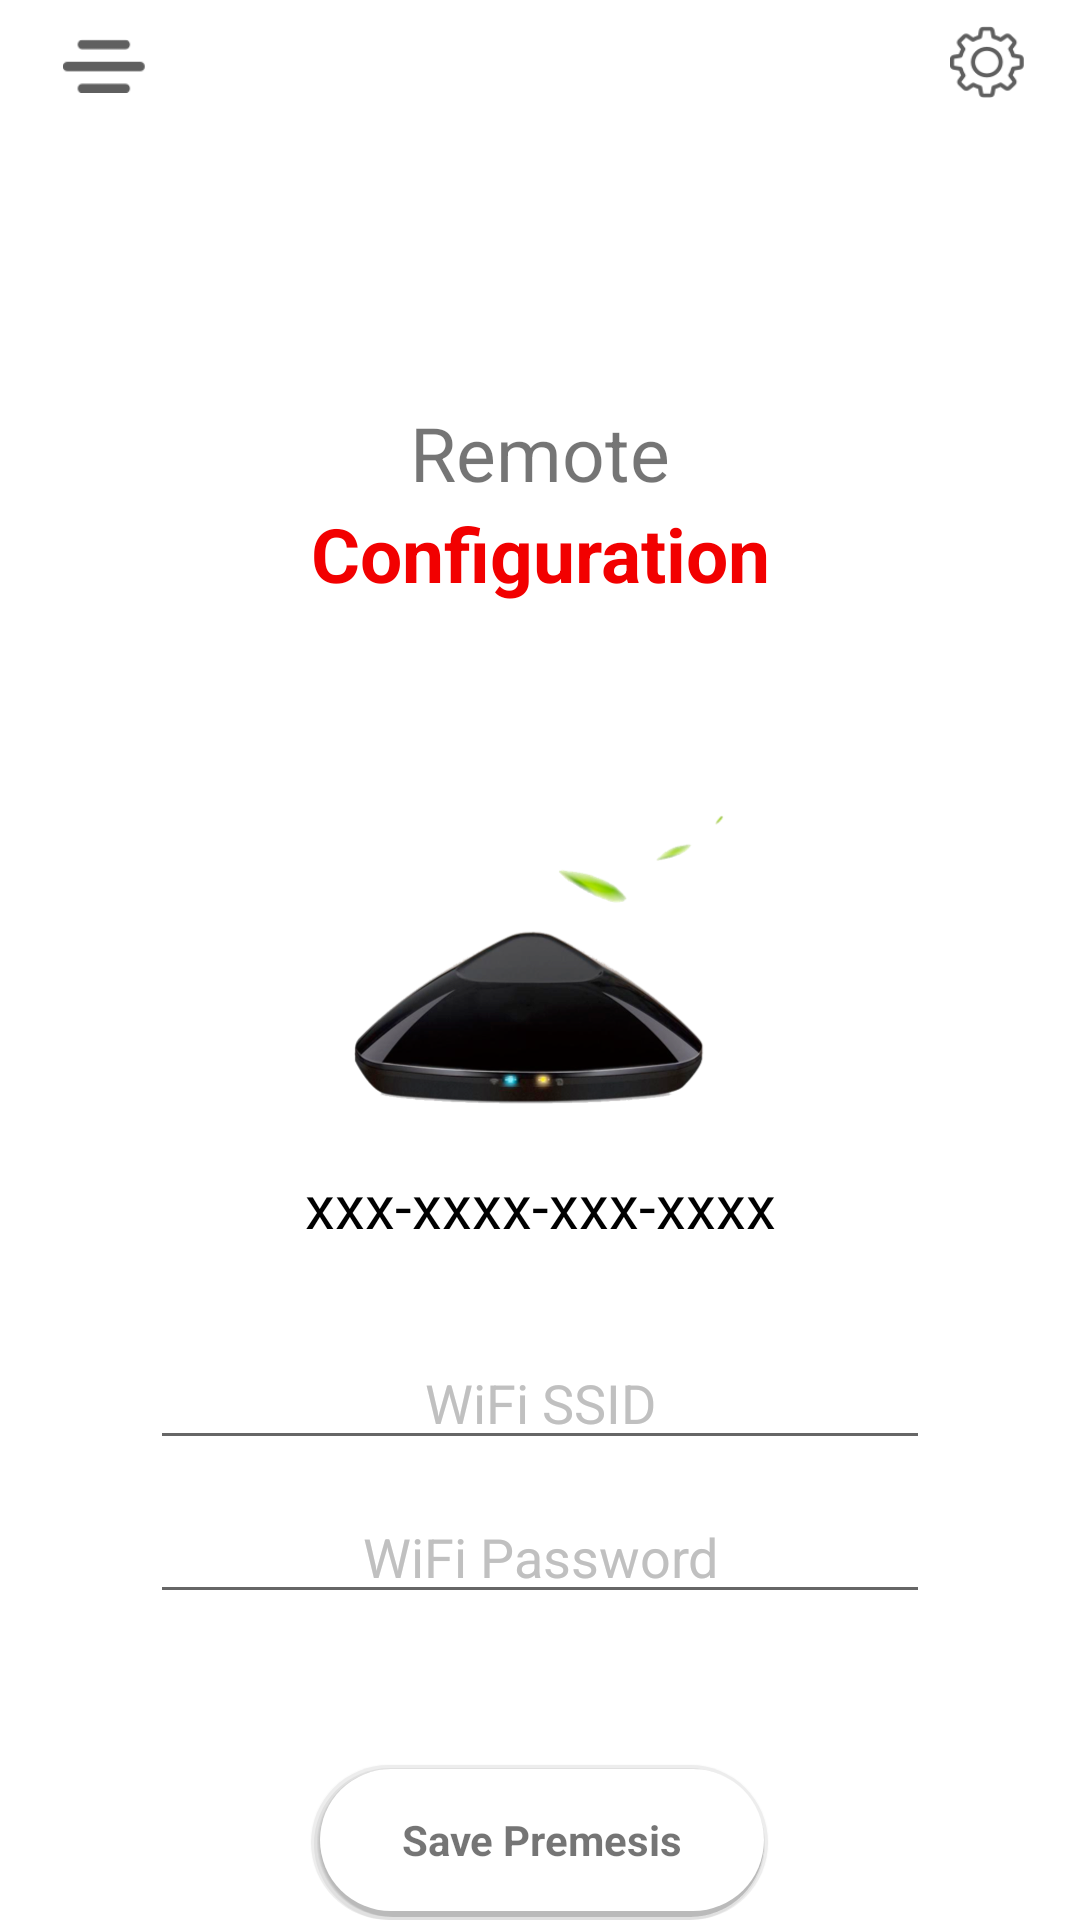

Screen size 1080*1920. Icon name, then its box in pixels as [x1,y1,x2,y2]:
menu: [63,40,145,93]
settings: [950,27,1024,98]
